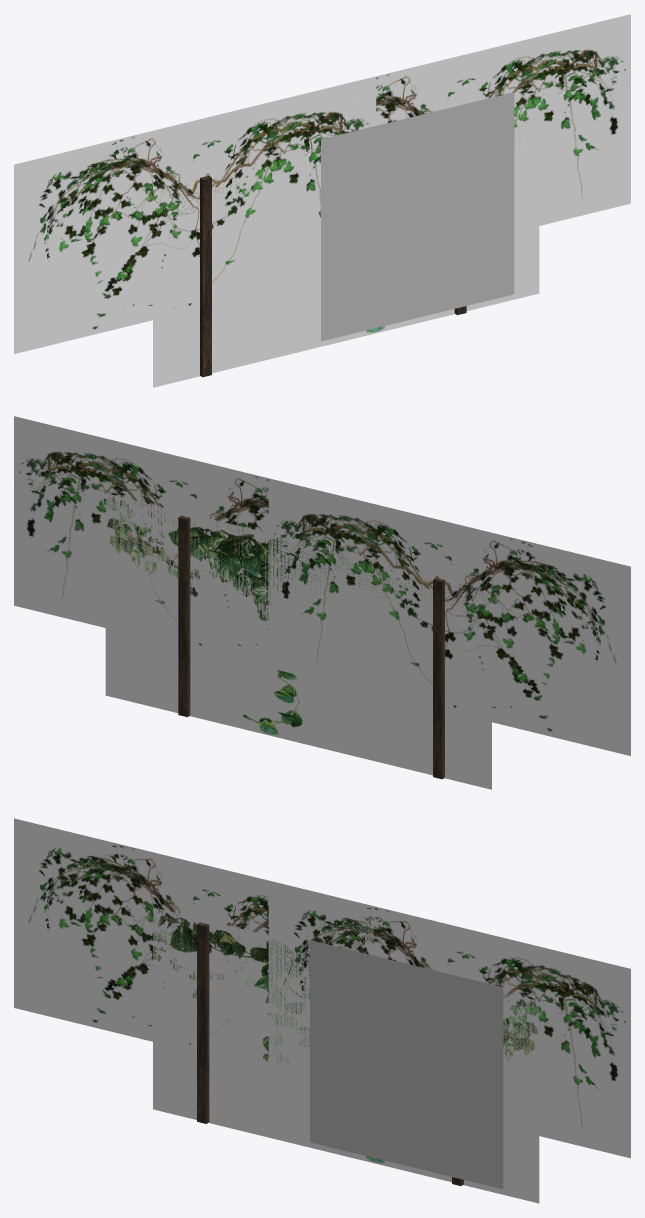
Rendered from Vines.fbx.
The picture shows the model from 3 angles, top to bottom: view 1: azimuth 30°, elevation 25°; view 2: azimuth 150°, elevation 25°; view 3: azimuth 330°, elevation 25°; orthographic projection.
Visible parts, largest first — view 1: 768x384, 1024x1024, 768x384_1, 1024x512, Stand; view 2: 768x384, 1024x512, 768x384_1, Stand_1, Stand; view 3: 768x384_1, 768x384, 1024x1024, 1024x512, Stand.
Boxes of the visible parts, bbox=[...] form: 768x384: bbox=[14, 76, 376, 353]; 1024x1024: bbox=[321, 92, 514, 341]; 768x384_1: bbox=[268, 14, 630, 287]; 1024x512: bbox=[153, 93, 539, 387]; Stand: bbox=[200, 175, 211, 377]; 768x384: bbox=[268, 478, 630, 755]; 1024x512: bbox=[105, 493, 491, 789]; 768x384_1: bbox=[14, 416, 373, 671]; Stand_1: bbox=[178, 515, 190, 717]; Stand: bbox=[433, 577, 444, 779]; 768x384_1: bbox=[268, 880, 630, 1158]; 768x384: bbox=[14, 818, 376, 1069]; 1024x1024: bbox=[310, 940, 503, 1189]; 1024x512: bbox=[153, 907, 539, 1203]; Stand: bbox=[197, 922, 209, 1123].
Size of the model in its own units: 654 by 260 by 15.
